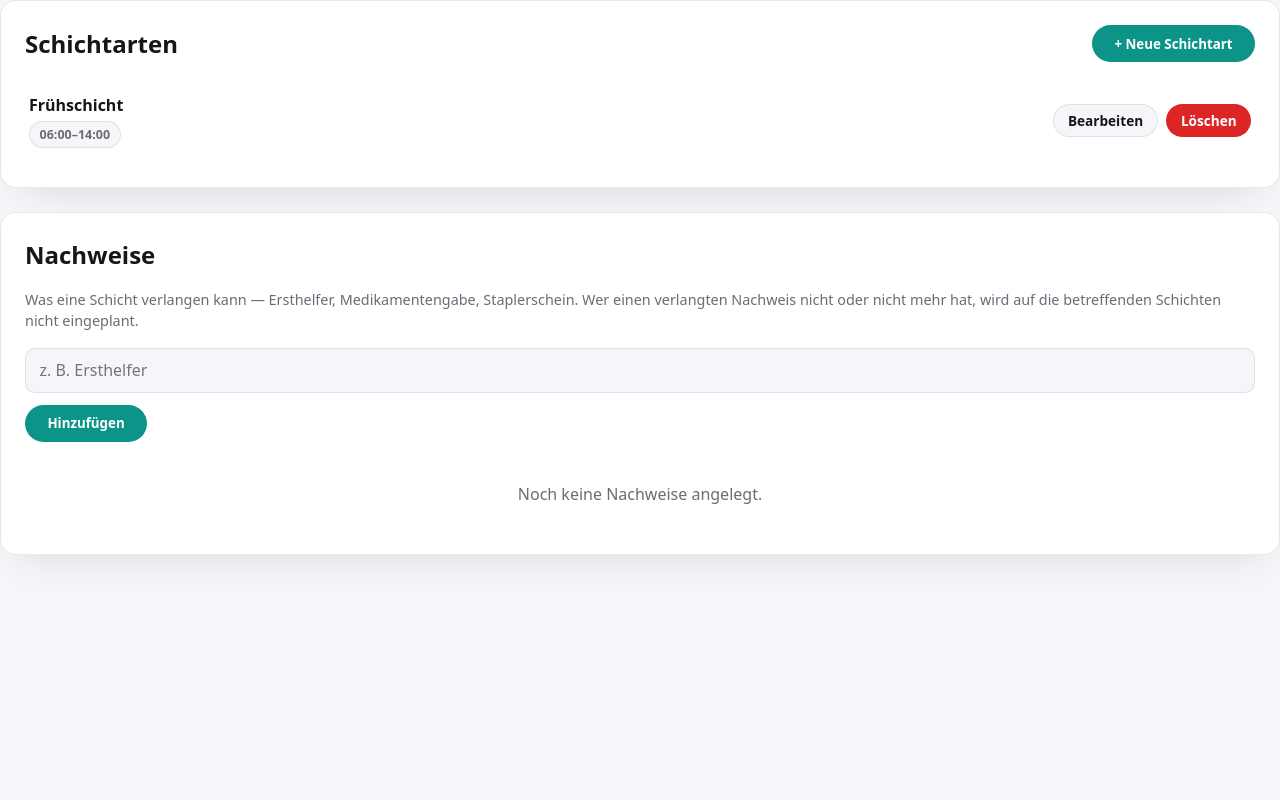
ShiftTypes ohne Bedarfszahlen › nennt im Formular den Ort, an dem der Bedarf jetzt gepflegt wird
Click the button "+ Neue Schichtart".
click(1174, 44)  # box [1092,25,1255,62]
(page scrolled)
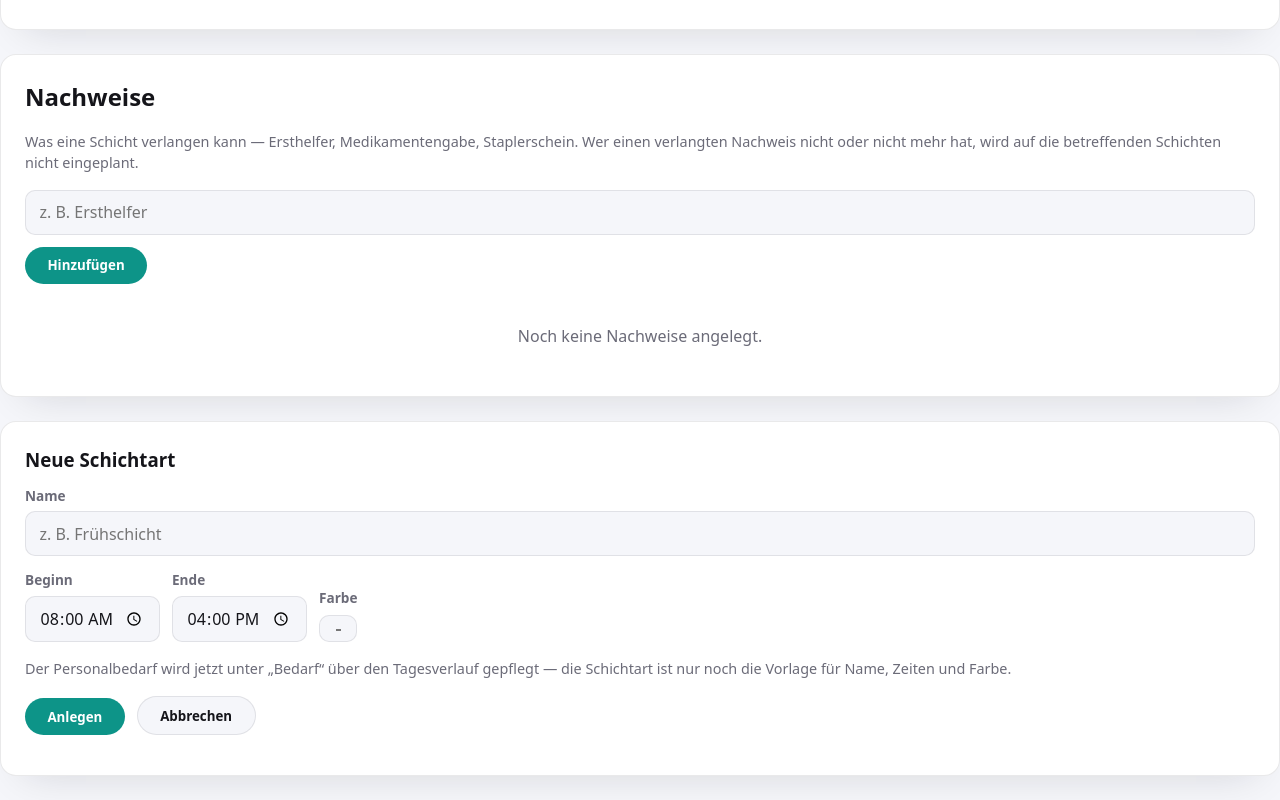
Expected: the text "bedarf" is shown, [25,660,1011,678]
